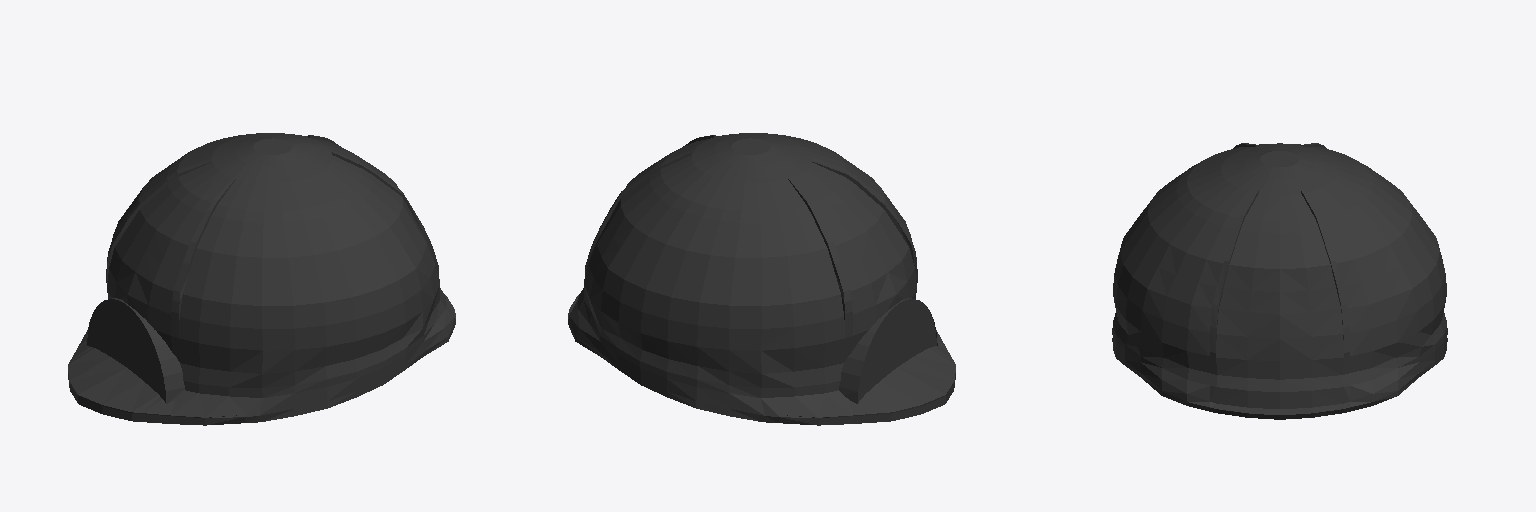
Rendered from helment.obj.
3 views of the same model, side by side, from view 1: azimuth 30°, elevation 25°; view 2: azimuth 150°, elevation 25°; view 3: azimuth 270°, elevation 25° (orthographic).
Visible parts, largest first — view 1: Cylinder, Circle.001; view 2: Cylinder, Circle.001; view 3: Cylinder.
Boxes of the visible parts, x1,y1,x2,y2 form: Cylinder: [68, 133, 455, 425]; Circle.001: [86, 298, 184, 403]; Cylinder: [568, 133, 955, 425]; Circle.001: [839, 298, 937, 403]; Cylinder: [1112, 143, 1447, 419].
Size of the model in its own units: 5.13 by 2.89 by 4.18.